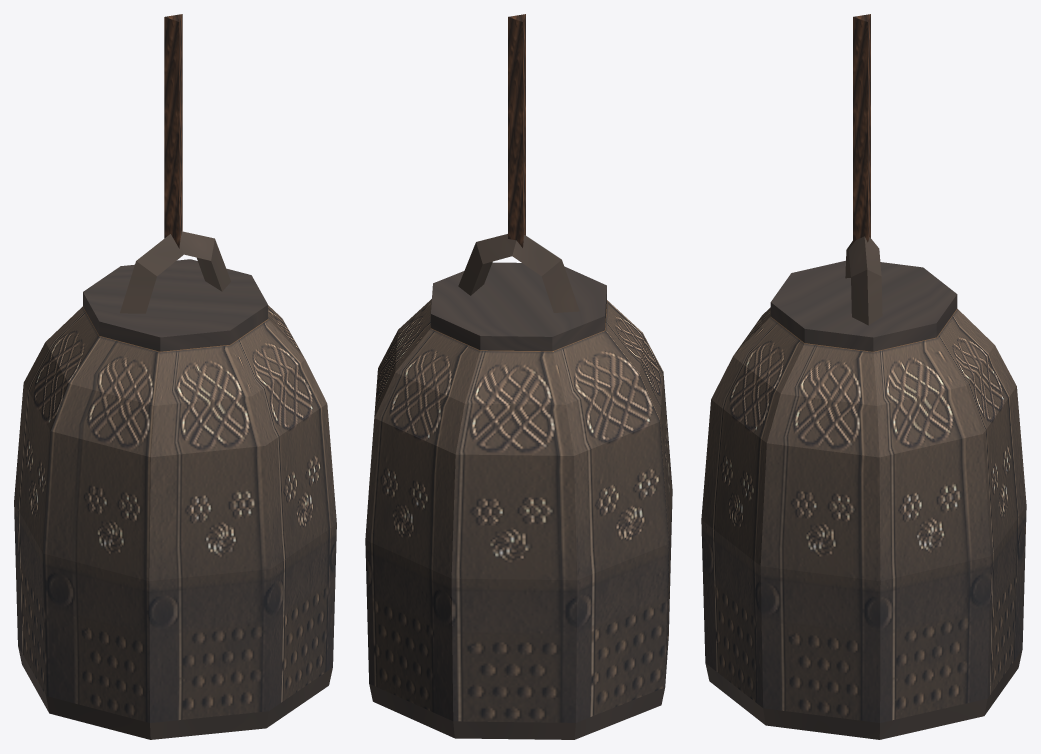
The model's file is polygonalmind-lunar-year-003.glb.
3 views of the same model, side by side, from view 1: azimuth 30°, elevation 25°; view 2: azimuth 150°, elevation 25°; view 3: azimuth 270°, elevation 25° (orthographic).
Parts seen in each view (by area): view 1: Bell; view 2: Bell; view 3: Bell.
Boxes of the visible parts, bbox=[...] form: Bell: bbox=[14, 14, 336, 739]; Bell: bbox=[365, 14, 672, 739]; Bell: bbox=[701, 14, 1026, 739].
Size of the model in its own units: 1.05 by 2.34 by 1.05.
Materials: 2 (2 with a texture image).
